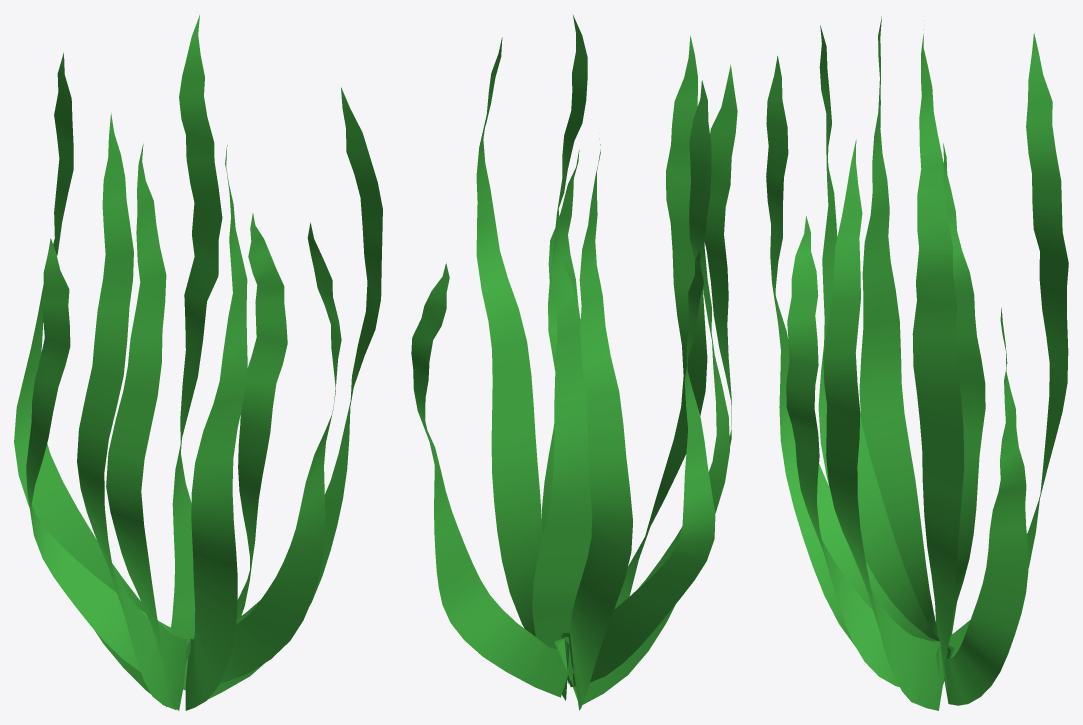
Rendered from coral_kelp_crown_A_light.fbx.
The picture shows the model from 3 angles, left to right: view 1: azimuth 30°, elevation 25°; view 2: azimuth 150°, elevation 25°; view 3: azimuth 270°, elevation 25°; orthographic projection. The views are drawn at different scales.
Visible parts, largest first — view 1: coral_kelp_crown_A_light; view 2: coral_kelp_crown_A_light; view 3: coral_kelp_crown_A_light.
Part boxes in pixels (x1=…): coral_kelp_crown_A_light: x1=14, y1=15, x2=382, y2=710; coral_kelp_crown_A_light: x1=411, y1=15, x2=737, y2=710; coral_kelp_crown_A_light: x1=766, y1=16, x2=1068, y2=710.
Size of the model in its own units: 49.72 by 113 by 44.28.
